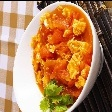fanqiechaojidan: (30, 0, 91, 112)
